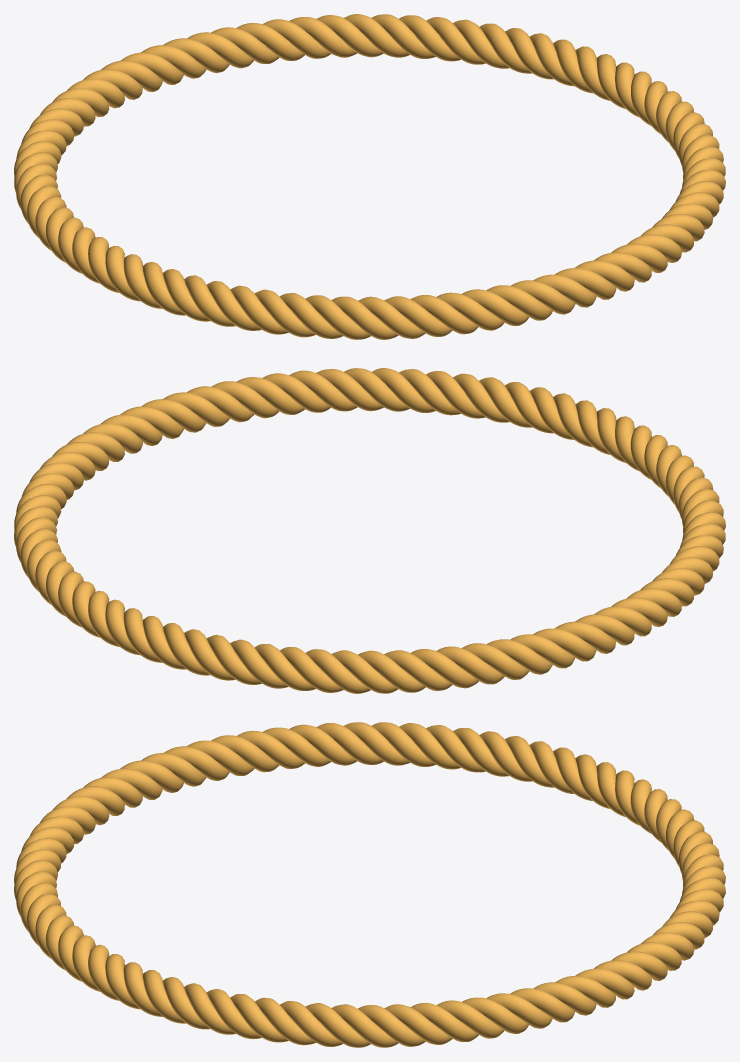
Rendered from bangle.glb.
The picture shows the model from 3 angles, top to bottom: view 1: azimuth 30°, elevation 25°; view 2: azimuth 150°, elevation 25°; view 3: azimuth 270°, elevation 25°; orthographic projection.
Parts seen in each view (by area): view 1: Strand3, Strand1, Strand2; view 2: Strand3, Strand1, Strand2; view 3: Strand1, Strand3, Strand2.
Part boxes in pixels (<box>): Strand3: <box>14,14,725,338</box>; Strand1: <box>14,15,725,339</box>; Strand2: <box>16,14,723,339</box>; Strand3: <box>16,368,723,693</box>; Strand1: <box>14,368,725,692</box>; Strand2: <box>14,369,725,693</box>; Strand1: <box>16,722,723,1047</box>; Strand3: <box>14,723,725,1047</box>; Strand2: <box>14,722,725,1046</box>.
Size of the model in its own units: 0.0699 by 0.00426 by 0.0698.
